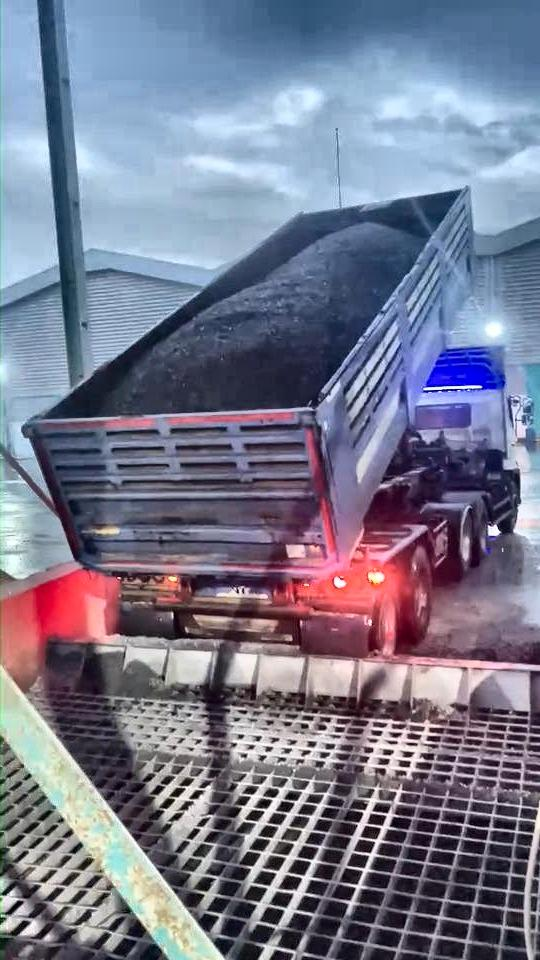gravel: (102, 223, 424, 415)
